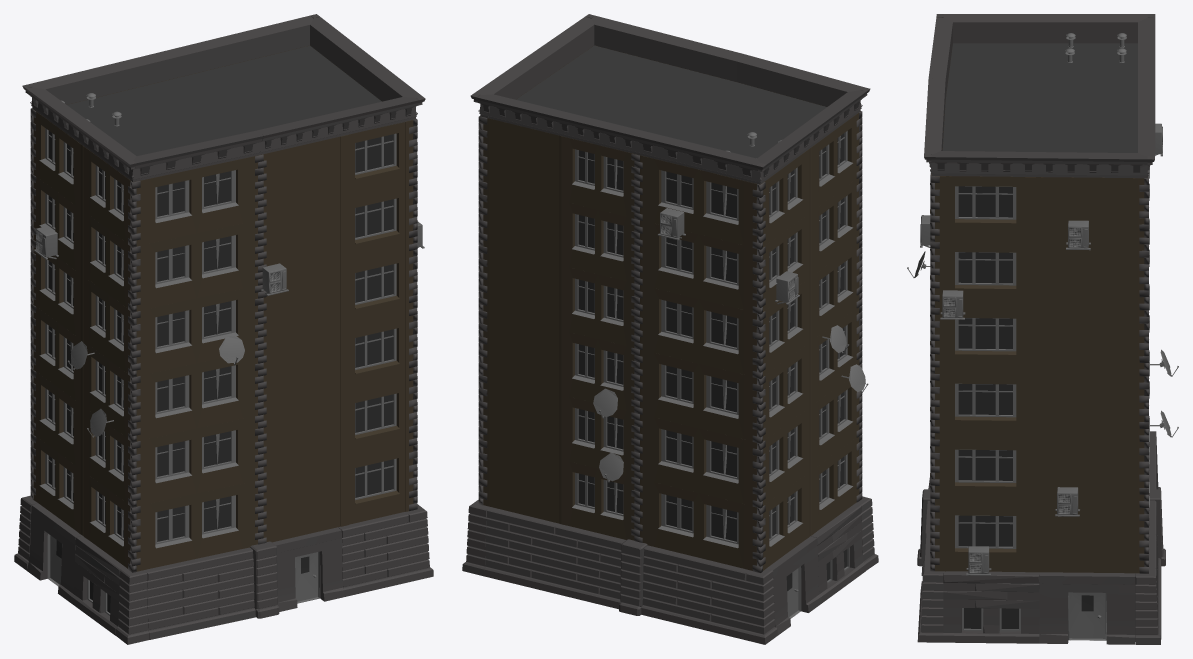
3 renders of one model, left to right at view 1: azimuth 30°, elevation 25°; view 2: azimuth 150°, elevation 25°; view 3: azimuth 270°, elevation 25°, orthographic.
Visible parts, largest first — view 1: Plane.022, middle_floor_wall_02.718, middle_floor_wall_02.714, middle_floor_wall_02.717, middle_floor_wall_02.713, ground_floor_wall_02.160, middle_floor_wall_02.715, middle_floor_wall_02.716, middle_floor_wall_01.366, middle_floor_wall_01.362, middle_floor_wall_01.363, middle_floor_wall_01.361 (+51 smaller); view 2: Plane.022, middle_floor_wall_02.710, middle_floor_wall_02.709, middle_floor_wall_02.708, middle_floor_wall_02.707, ground_floor_wall_02.159, middle_floor_wall_02.711, middle_floor_wall_02.712, ground_floor_wall_02.157, middle_floor_wall_02.694, middle_floor_wall_02.693, middle_floor_wall_02.692 (+52 smaller); view 3: Plane.022, ground_floor_wall_03.045, middle_floor_wall_03.266, middle_floor_wall_03.262, ground_floor_wall_01.051, middle_floor_wall_03.263, middle_floor_wall_03.264, middle_floor_wall_01.375, middle_floor_wall_01.376, middle_floor_wall_03.265, middle_floor_wall_01.377, middle_floor_wall_01.373 (+36 smaller).
Boxes of the visible parts, x1,y1,x2,y2 form: Plane.022: (67, 45, 405, 155); middle_floor_wall_02.718: (133, 155, 259, 246); middle_floor_wall_02.714: (136, 416, 257, 506); middle_floor_wall_02.717: (136, 221, 257, 311); middle_floor_wall_02.713: (136, 481, 257, 571); ground_floor_wall_02.160: (144, 547, 255, 639); middle_floor_wall_02.715: (136, 351, 257, 441); middle_floor_wall_02.716: (136, 286, 257, 376); middle_floor_wall_01.366: (261, 137, 338, 218); middle_floor_wall_01.362: (263, 397, 338, 478); middle_floor_wall_01.363: (263, 332, 338, 413); middle_floor_wall_01.361: (263, 462, 338, 542); Plane.022: (516, 45, 826, 158); middle_floor_wall_02.710: (640, 285, 756, 376); middle_floor_wall_02.709: (640, 349, 756, 441); middle_floor_wall_02.708: (640, 414, 756, 506); middle_floor_wall_02.707: (640, 479, 756, 570); ground_floor_wall_02.159: (641, 545, 749, 639); middle_floor_wall_02.711: (640, 220, 756, 312); middle_floor_wall_02.712: (637, 154, 759, 247); ground_floor_wall_02.157: (484, 507, 558, 592); middle_floor_wall_02.694: (559, 135, 636, 218); middle_floor_wall_02.693: (559, 200, 634, 283); middle_floor_wall_02.692: (559, 265, 634, 347); Plane.022: (930, 43, 1137, 174); ground_floor_wall_03.045: (943, 571, 1039, 643); middle_floor_wall_03.266: (935, 176, 1039, 243); middle_floor_wall_03.262: (935, 439, 1039, 506); ground_floor_wall_01.051: (1039, 572, 1135, 644); middle_floor_wall_03.263: (935, 373, 1039, 440); middle_floor_wall_03.264: (935, 308, 1039, 374); middle_floor_wall_01.375: (1039, 374, 1137, 441); middle_floor_wall_01.376: (1039, 309, 1137, 375); middle_floor_wall_03.265: (935, 242, 1039, 308); middle_floor_wall_01.377: (1039, 243, 1137, 309); middle_floor_wall_01.373: (1039, 506, 1137, 573).
Bounding box in the file's own units: 1559 × 2221 × 1133.
